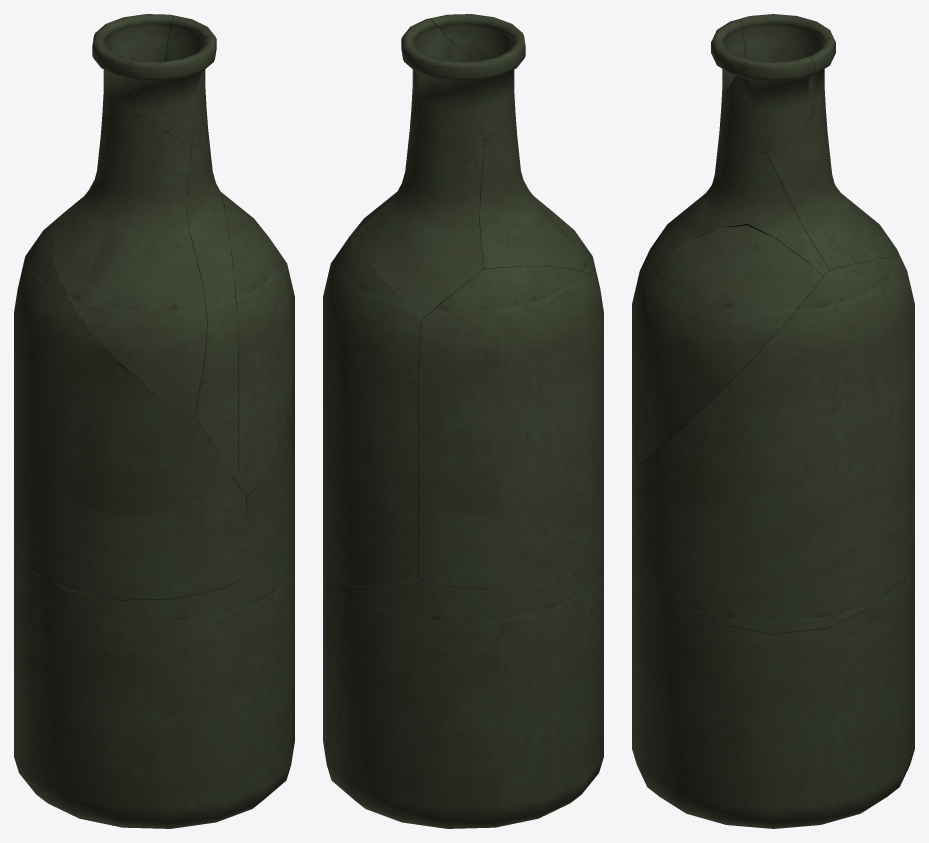
Rendered from broken glass.fbx.
3 renders of one model, left to right at view 1: azimuth 30°, elevation 25°; view 2: azimuth 150°, elevation 25°; view 3: azimuth 270°, elevation 25°, orthographic.
Visible parts, largest first — view 1: Object_2_cell.009, Object_2_cell.007, Object_2_cell.006, Object_2_cell, Object_2_cell.005, Object_2_cell.001, Object_2_cell.004, Object_2_cell.008, Object_2_cell.003; view 2: Object_2_cell.009, Object_2_cell.007, Object_2_cell.001, Object_2_cell.002, Object_2_cell.006, Object_2_cell.004, Object_2_cell.008, Object_2_cell.003; view 3: Object_2_cell.001, Object_2_cell.009, Object_2_cell, Object_2_cell.005, Object_2_cell.002, Object_2_cell.003, Object_2_cell.004, Object_2_cell.008, Object_2_cell.007, Object_2_cell.006.
Boxes of the visible parts, x1,y1,x2,y2 form: Object_2_cell.009: (14,545,294,828); Object_2_cell.007: (14,216,245,599); Object_2_cell.006: (52,116,207,414); Object_2_cell: (221,192,294,496); Object_2_cell.005: (187,129,238,484); Object_2_cell.001: (245,331,294,578); Object_2_cell.004: (92,14,174,117); Object_2_cell.008: (130,36,215,132); Object_2_cell.003: (164,15,216,146); Object_2_cell.009: (323,550,603,828); Object_2_cell.007: (419,266,603,589); Object_2_cell.001: (323,235,423,586); Object_2_cell.002: (361,108,485,318); Object_2_cell.006: (479,102,600,288); Object_2_cell.004: (402,35,525,139); Object_2_cell.008: (431,14,524,61); Object_2_cell.003: (401,18,469,111); Object_2_cell.001: (637,256,914,633); Object_2_cell.009: (632,533,914,828); Object_2_cell: (635,225,822,463); Object_2_cell.005: (632,136,829,444); Object_2_cell.002: (766,108,899,269); Object_2_cell.003: (720,57,815,152); Object_2_cell.004: (738,14,835,113); Object_2_cell.008: (711,19,751,101); Object_2_cell.007: (632,231,901,543); Object_2_cell.006: (643,122,721,263).
Bounding box in the file's own units: 169 × 490 × 169.
Materials: 1 (1 with a texture image).
